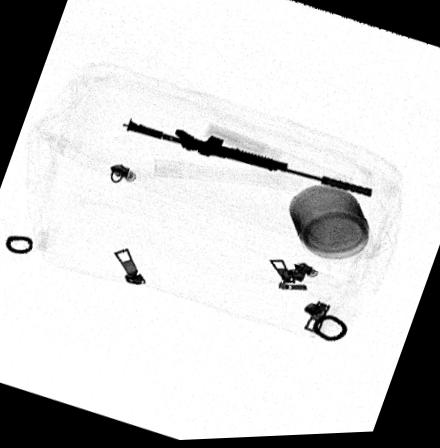Gun: (124, 118, 372, 200)
